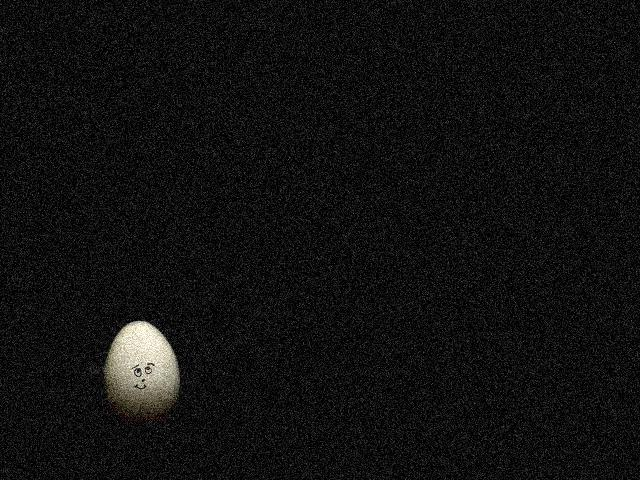egg: (105, 320, 179, 420)
